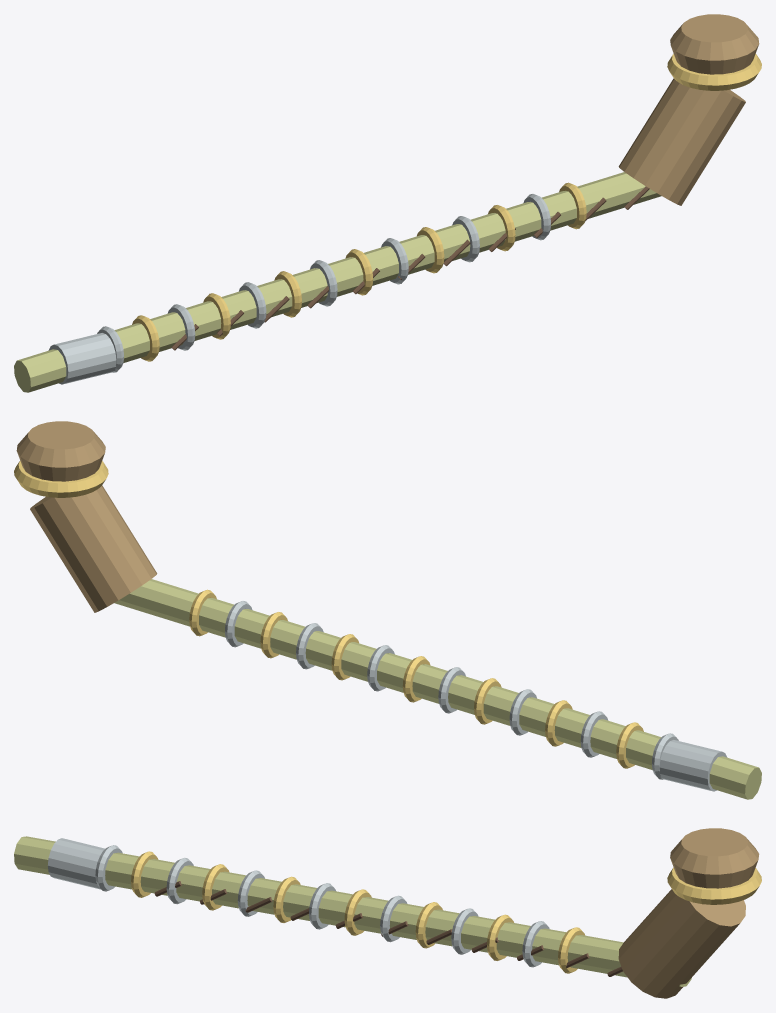
File: kabuki_kiseru_prop.glb
3 views of the same model, one above another, from view 1: azimuth 30°, elevation 25°; view 2: azimuth 150°, elevation 25°; view 3: azimuth 330°, elevation 25° (orthographic).
Parts seen in each view (by area): view 1: Long kiseru bamboo shaft, Cast copper smoking bowl, Kiseru tiny open bowl, Silver kiseru stem ferrule, Polished bronze kiseru bowl collar; view 2: Long kiseru bamboo shaft, Cast copper smoking bowl, Kiseru tiny open bowl, Silver kiseru stem ferrule, Polished bronze kiseru bowl collar; view 3: Long kiseru bamboo shaft, Cast copper smoking bowl, Kiseru tiny open bowl, Silver kiseru stem ferrule, Polished bronze kiseru bowl collar, Inlaid engraved silver and gold grip rings, Inlaid engraved silver and gold grip rings.012, Inlaid engraved silver and gold grip rings.001, Inlaid engraved silver and gold grip rings.005, Inlaid engraved silver and gold grip rings.007, Inlaid engraved silver and gold grip rings.010, Inlaid engraved silver and gold grip rings.002 (+7 smaller).
Part boxes in pixels (bbox=[...]): Long kiseru bamboo shaft: bbox=[14, 172, 661, 392]; Cast copper smoking bowl: bbox=[618, 78, 745, 205]; Kiseru tiny open bowl: bbox=[670, 14, 759, 74]; Silver kiseru stem ferrule: bbox=[48, 333, 116, 384]; Polished bronze kiseru bowl collar: bbox=[667, 53, 761, 90]; Long kiseru bamboo shaft: bbox=[114, 579, 761, 799]; Cast copper smoking bowl: bbox=[30, 485, 157, 612]; Kiseru tiny open bowl: bbox=[16, 421, 105, 481]; Silver kiseru stem ferrule: bbox=[659, 740, 727, 791]; Polished bronze kiseru bowl collar: bbox=[14, 460, 108, 497]; Long kiseru bamboo shaft: bbox=[14, 836, 691, 986]; Cast copper smoking bowl: bbox=[618, 889, 745, 998]; Kiseru tiny open bowl: bbox=[670, 828, 759, 888]; Silver kiseru stem ferrule: bbox=[47, 838, 104, 889]; Polished bronze kiseru bowl collar: bbox=[667, 867, 761, 904]; Inlaid engraved silver and gold grip rings: bbox=[95, 845, 122, 891]; Inlaid engraved silver and gold grip rings.012: bbox=[522, 921, 549, 967]; Inlaid engraved silver and gold grip rings.001: bbox=[131, 851, 158, 897]; Inlaid engraved silver and gold grip rings.005: bbox=[273, 876, 300, 922]; Inlaid engraved silver and gold grip rings.007: bbox=[344, 889, 371, 935]; Inlaid engraved silver and gold grip rings.010: bbox=[451, 908, 478, 954]; Inlaid engraved silver and gold grip rings.002: bbox=[166, 857, 193, 904].
Bounding box in the file's own units: 1.95 × 0.4956 × 0.2182.
